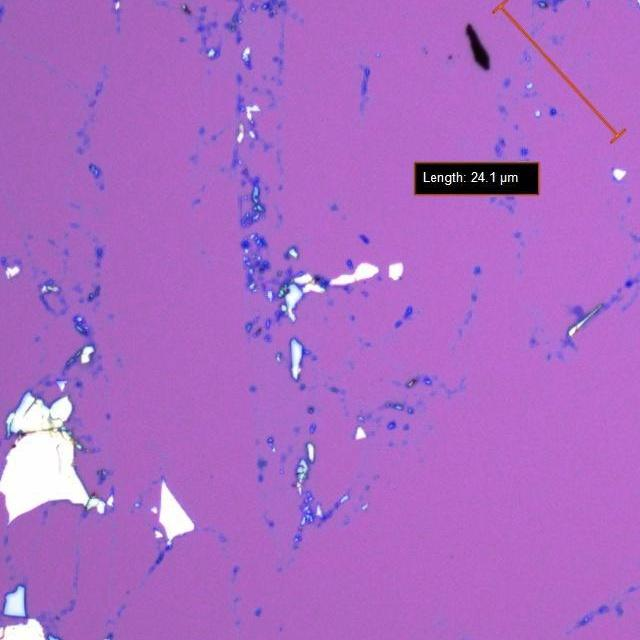monolayer-eWW4: (569, 303, 584, 318)
